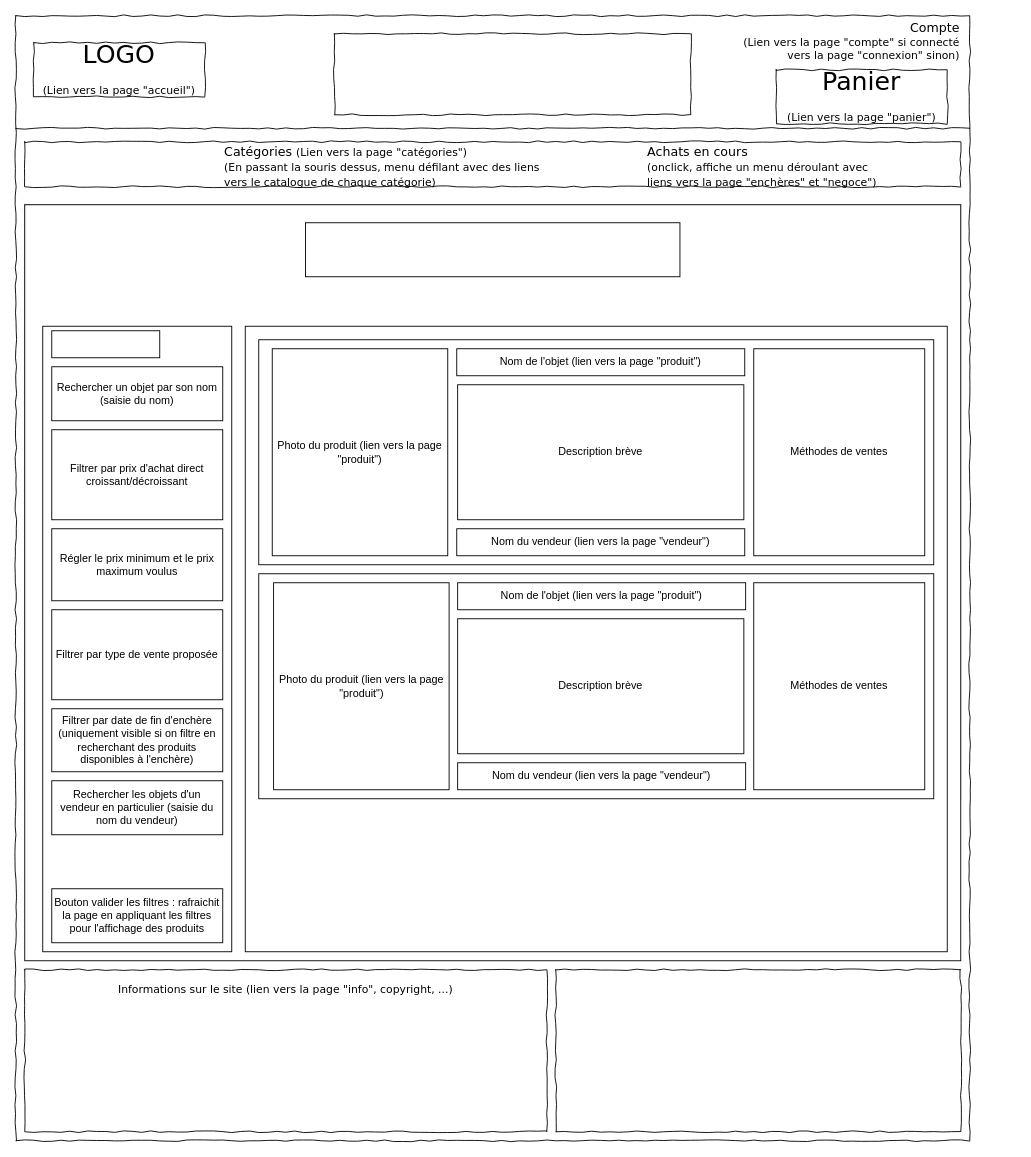
This 1031x1157 diagram has some shape labels left out. The box of each missing label's shape, as (x1, y1, x2, y2) in pixels:
Bienvenue ...: (333, 33, 691, 115)
Catalogue : [catégorie choisie]: (305, 222, 680, 277)
Filtres: (51, 330, 160, 358)
Nous contacter: (555, 969, 961, 1132)
